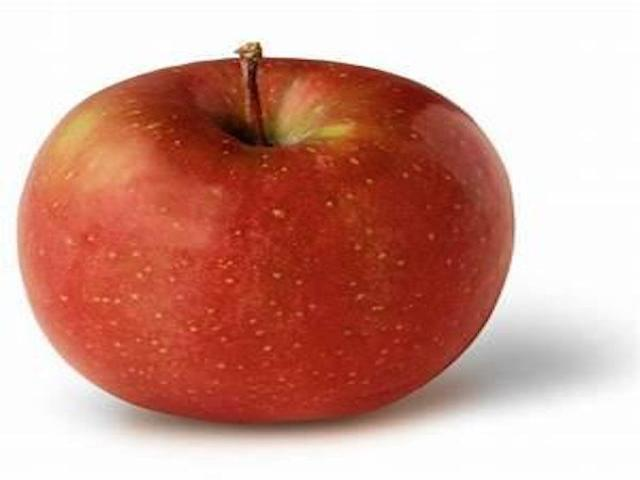apple: (14, 36, 523, 429)
